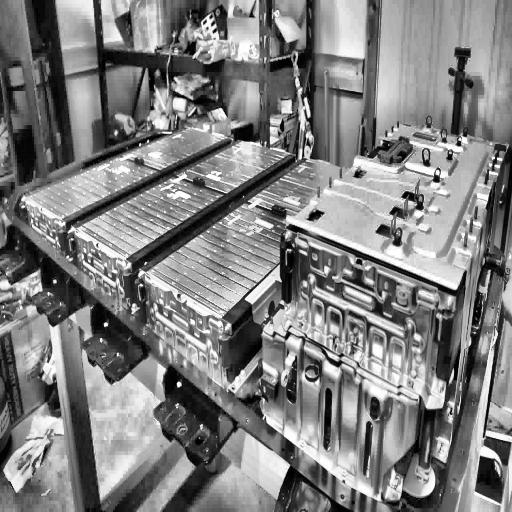battery_module: (261, 119, 508, 498), (147, 199, 304, 320), (73, 173, 223, 262), (26, 155, 159, 222), (176, 140, 291, 194), (123, 128, 229, 170)
